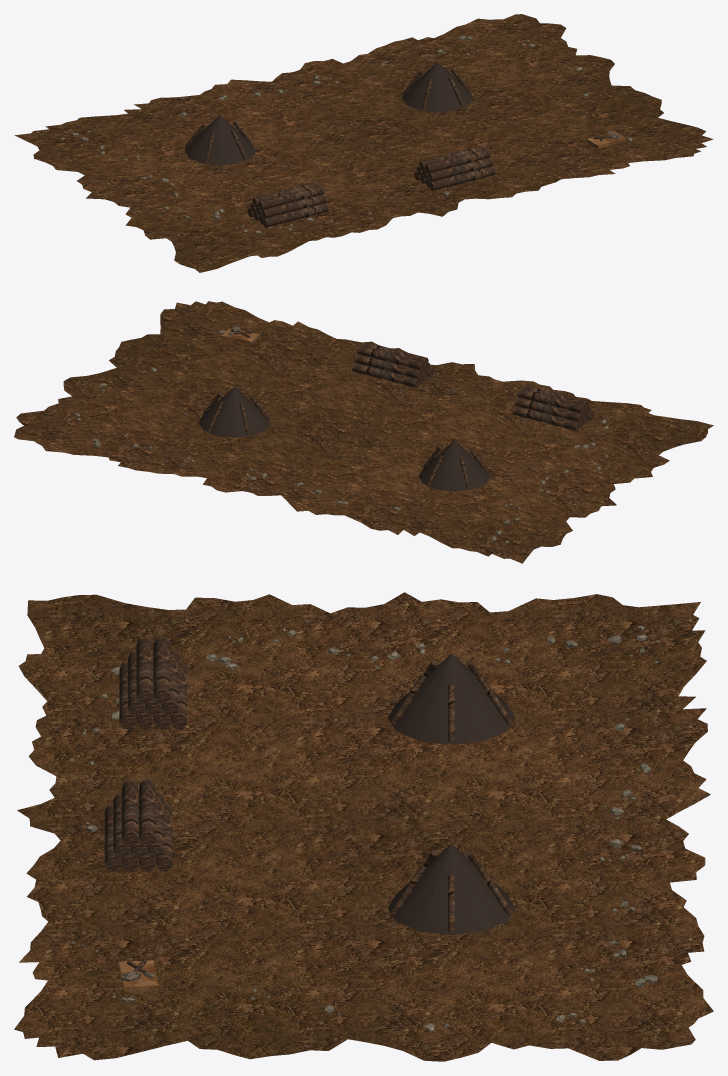
Rendered from coal.glb.
The picture shows the model from 3 angles, top to bottom: view 1: azimuth 30°, elevation 25°; view 2: azimuth 150°, elevation 25°; view 3: azimuth 270°, elevation 25°; orthographic projection. The views are drawn at different scales.
Visible parts, largest first — view 1: part_0, part_3, part_2, part_1; view 2: part_0, part_3, part_2, part_1; view 3: part_0, part_3, part_2, part_1, part_4.
Part boxes in pixels (x1,y1,x2,y2): part_0: (14, 14, 713, 272); part_3: (185, 64, 612, 227); part_2: (184, 62, 473, 165); part_1: (61, 35, 632, 233); part_0: (14, 301, 713, 563); part_3: (203, 330, 594, 488); part_2: (198, 386, 490, 491); part_1: (67, 330, 613, 543); part_0: (14, 592, 713, 1061); part_3: (104, 636, 512, 973); part_2: (387, 653, 515, 934); part_1: (69, 625, 659, 1031); part_4: (118, 960, 158, 991).
Bounding box in the file's own units: 9.39 × 0.641 × 5.92.
Materials: 7 (5 with a texture image).
